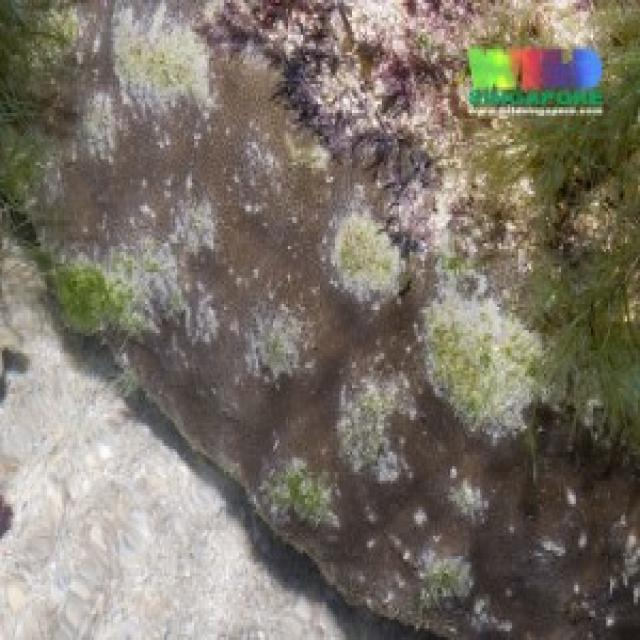Bleached: (327, 60, 640, 158), (220, 1, 640, 53), (425, 291, 546, 436), (400, 151, 539, 275), (72, 247, 217, 337), (117, 8, 215, 119), (342, 366, 416, 489), (328, 207, 404, 299), (262, 465, 337, 534), (254, 308, 313, 376), (84, 90, 126, 160), (422, 552, 479, 603), (171, 195, 219, 252), (52, 9, 97, 66), (450, 482, 491, 520)
Healthy: (490, 433, 640, 640), (222, 58, 324, 308), (160, 330, 251, 444), (341, 491, 417, 607), (254, 374, 339, 462), (68, 166, 167, 241), (128, 115, 220, 194), (322, 303, 423, 366)
